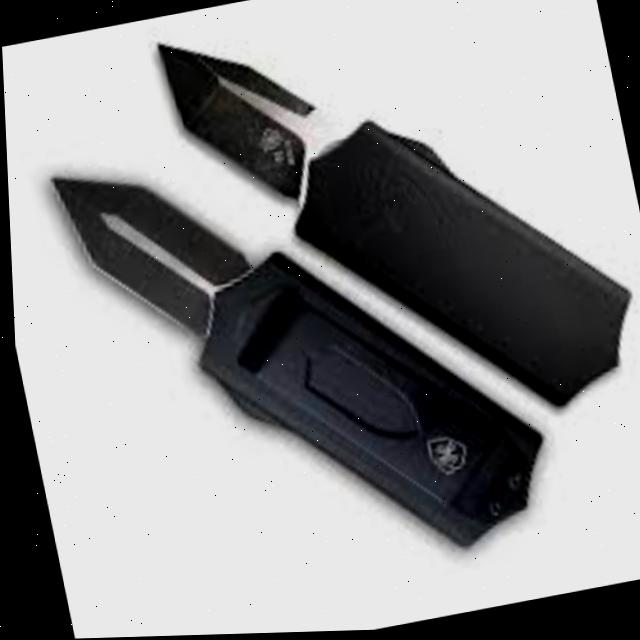Knife: (43, 95, 558, 611), (152, 0, 640, 471)
